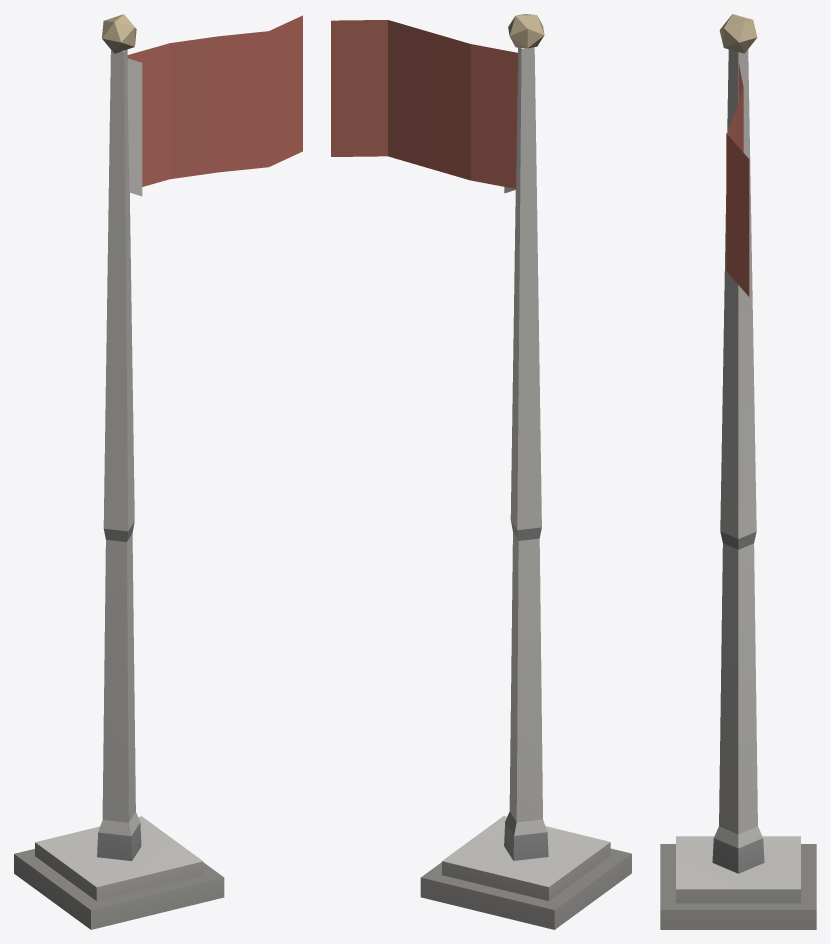
The model's file is redflag.lod1.glb.
3 renders of one model, left to right at view 1: azimuth 30°, elevation 25°; view 2: azimuth 150°, elevation 25°; view 3: azimuth 270°, elevation 25°, orthographic.
Bounding box in the file's own units: 2.3 × 7.46 × 1.2.
